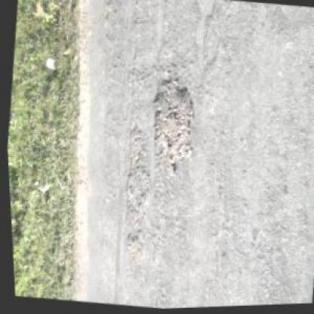Hueco: (141, 71, 202, 173), (116, 125, 157, 222), (121, 226, 148, 268)
